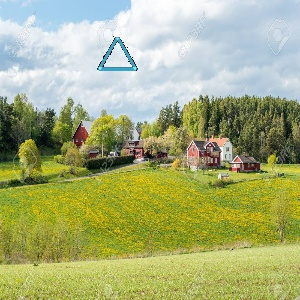triangle: (94, 35, 142, 75)
